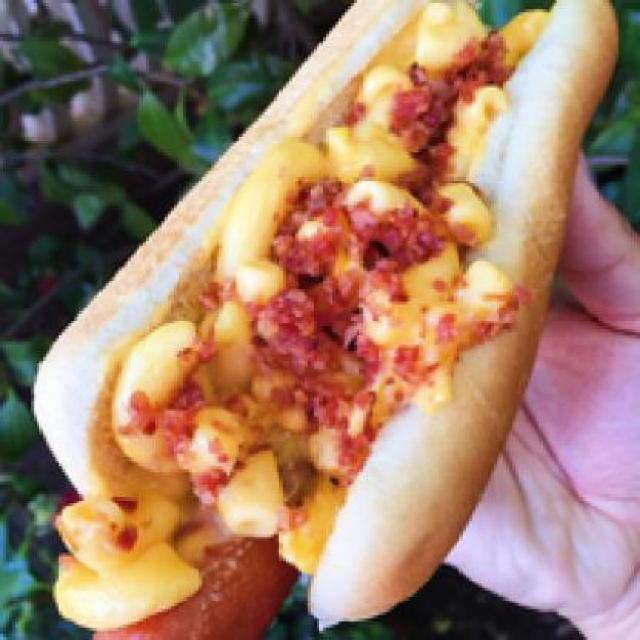hot dog: (82, 506, 323, 637)
